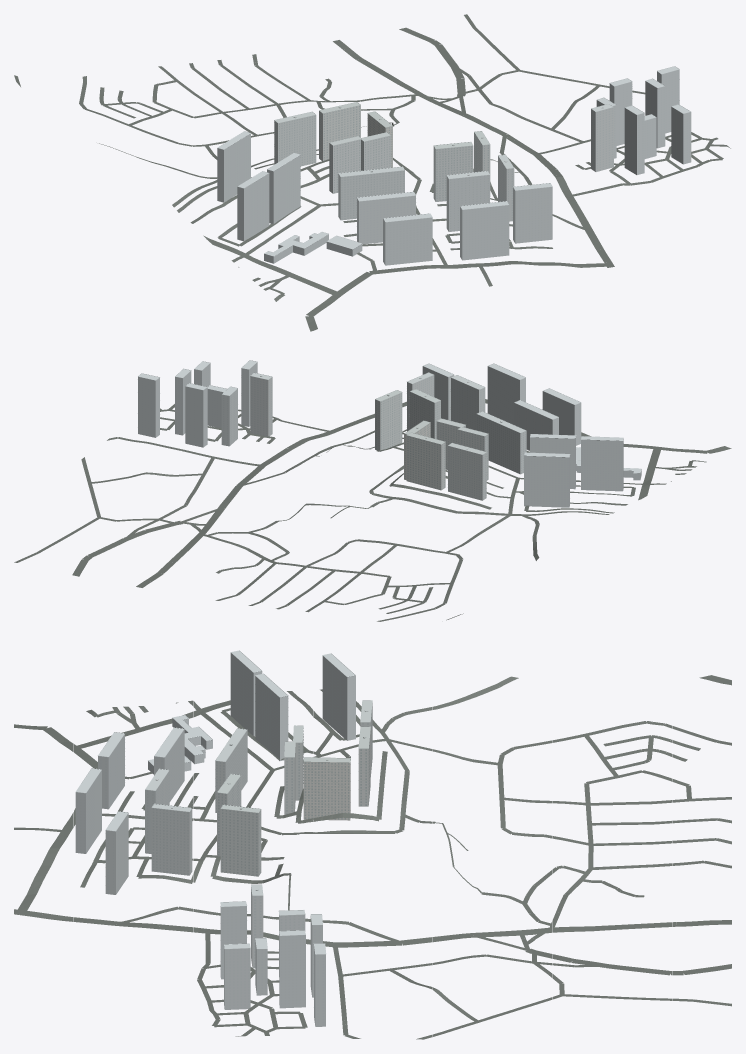
The picture shows the model from 3 angles, top to bottom: view 1: azimuth 30°, elevation 25°; view 2: azimuth 150°, elevation 25°; view 3: azimuth 270°, elevation 25°; orthographic projection. The views are drawn at different scales.
Visible parts, largest first — view 1: osm-roads, osm-building-791450600, osm-building-791450599, osm-building-791450619, osm-building-791450602, osm-building-791450607, osm-building-791450606, osm-building-791450617, osm-building-791450611, osm-building-791450609, osm-building-791450608, osm-building-791450601 (+14 smaller); view 2: osm-roads, osm-building-791450609, osm-building-791450611, osm-building-791450607, osm-building-791450616, osm-building-791450617, osm-building-791450600, osm-building-791450605, osm-building-791450601, osm-building-1387015452, osm-building-1387015450, osm-building-1387015453 (+11 smaller); view 3: osm-roads, osm-building-791450618, osm-building-791450604, osm-building-791450605, osm-building-791450609, osm-building-791450608, osm-building-1387015461, osm-building-791450600, osm-building-791450611, osm-building-1387015458, osm-building-791450602, osm-building-791450599 (+11 smaller).
Part boxes in pixels (bbox=[...]): osm-roads: bbox=[14, 14, 730, 331]; osm-building-791450600: bbox=[460, 201, 509, 260]; osm-building-791450599: bbox=[383, 213, 432, 265]; osm-building-791450619: bbox=[329, 132, 390, 193]; osm-building-791450602: bbox=[513, 183, 552, 243]; osm-building-791450607: bbox=[338, 166, 404, 220]; osm-building-791450606: bbox=[357, 191, 415, 244]; osm-building-791450617: bbox=[274, 111, 316, 166]; osm-building-791450611: bbox=[237, 171, 269, 241]; osm-building-791450609: bbox=[217, 131, 250, 202]; osm-building-791450608: bbox=[267, 152, 300, 223]; osm-building-791450601: bbox=[446, 171, 489, 231]; osm-roads: bbox=[14, 399, 731, 621]; osm-building-791450609: bbox=[524, 452, 570, 507]; osm-building-791450611: bbox=[581, 436, 623, 491]; osm-building-791450607: bbox=[476, 411, 526, 474]; osm-building-791450616: bbox=[406, 432, 445, 490]; osm-building-791450617: bbox=[448, 442, 486, 500]; osm-building-791450600: bbox=[487, 363, 525, 424]; osm-building-791450605: bbox=[375, 390, 402, 451]; osm-building-791450601: bbox=[451, 375, 485, 430]; osm-building-1387015452: bbox=[185, 383, 207, 447]; osm-building-1387015450: bbox=[250, 372, 272, 436]; osm-building-1387015453: bbox=[138, 373, 159, 437]; osm-roads: bbox=[14, 675, 731, 1039]; osm-building-791450618: bbox=[303, 757, 350, 820]; osm-building-791450604: bbox=[151, 803, 192, 875]; osm-building-791450605: bbox=[220, 804, 261, 876]; osm-building-791450609: bbox=[322, 653, 355, 740]; osm-building-791450608: bbox=[255, 673, 288, 760]; osm-building-1387015461: bbox=[279, 930, 305, 1008]; osm-building-791450600: bbox=[75, 768, 101, 853]; osm-building-791450611: bbox=[230, 650, 262, 735]; osm-building-1387015458: bbox=[224, 943, 250, 1009]; osm-building-791450602: bbox=[105, 811, 128, 894]; osm-building-791450599: bbox=[98, 732, 124, 809].
Bounding box in the file's own units: 720 × 120 × 720.
8 materials, 1 textured.
